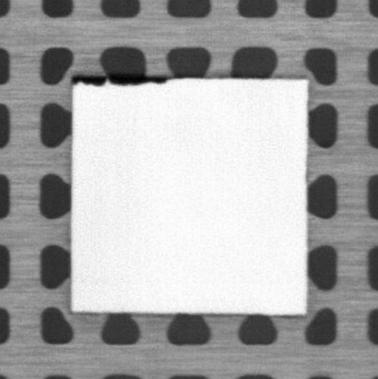DIE_BROKEN: (71, 72, 171, 87)
